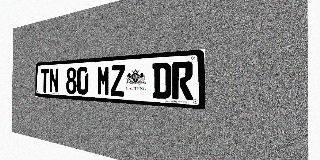0: (77, 66, 88, 95)
8: (66, 67, 77, 94)
D: (152, 62, 171, 99)
M: (97, 65, 110, 96)
N: (49, 68, 59, 93)
R: (172, 61, 193, 100)
T: (41, 69, 49, 93)
Z: (110, 65, 125, 97)
